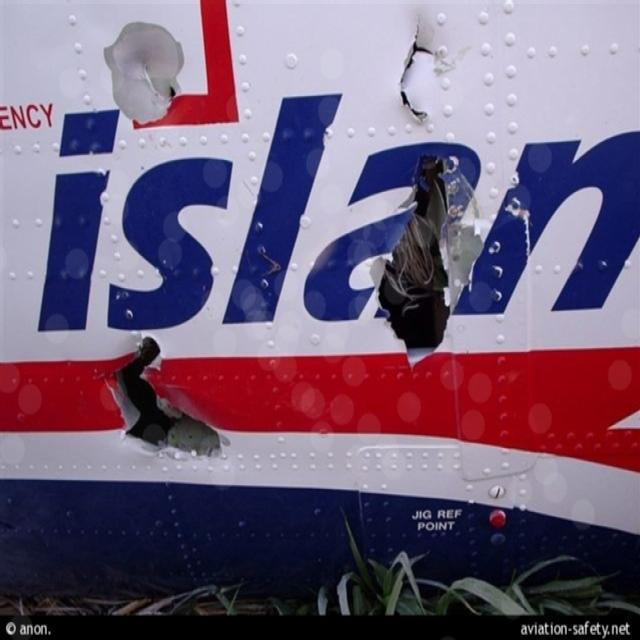crack: (368, 153, 488, 376), (106, 336, 238, 461), (393, 9, 463, 131), (144, 59, 185, 109)
